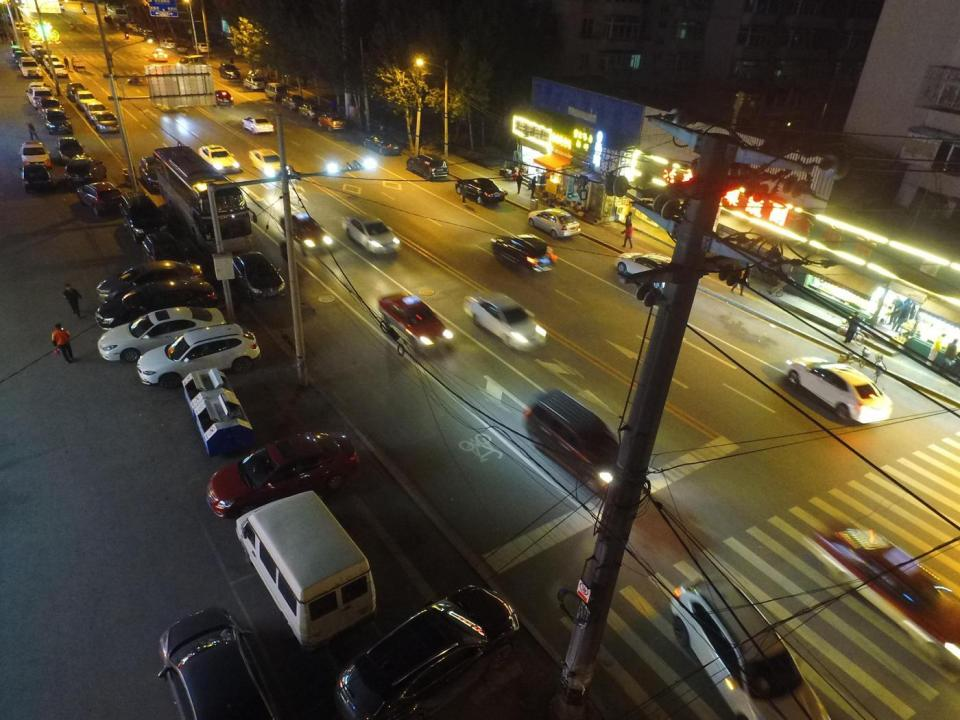bus: (153, 145, 257, 252)
car: (334, 585, 520, 720), (825, 526, 960, 668), (206, 432, 361, 520), (159, 607, 274, 720), (786, 354, 894, 424), (97, 307, 227, 364), (96, 278, 217, 330), (463, 289, 546, 353), (96, 259, 203, 304), (379, 292, 454, 355), (229, 252, 286, 302), (342, 215, 401, 255), (142, 232, 189, 272), (528, 207, 582, 239), (454, 178, 504, 204), (140, 156, 173, 194), (250, 146, 286, 180), (18, 162, 54, 192), (836, 310, 866, 345), (56, 137, 88, 169), (362, 133, 402, 156), (19, 141, 51, 168), (44, 108, 73, 135), (241, 115, 274, 135), (95, 111, 121, 134), (39, 97, 66, 119), (318, 111, 346, 131), (298, 102, 326, 122), (84, 101, 108, 123), (75, 90, 97, 110), (66, 82, 86, 102), (281, 94, 304, 110), (215, 89, 233, 105), (193, 42, 212, 53), (152, 49, 168, 62), (10, 45, 24, 58), (14, 51, 29, 63), (160, 38, 177, 48), (30, 43, 43, 56), (142, 30, 154, 39)
van: (236, 490, 376, 654), (672, 575, 830, 720), (522, 388, 640, 500), (136, 322, 260, 390), (492, 233, 558, 275), (119, 192, 169, 243), (614, 253, 673, 289), (77, 181, 123, 217), (406, 154, 448, 180), (66, 158, 106, 185), (26, 86, 54, 109), (18, 57, 42, 77), (265, 82, 287, 102), (243, 75, 265, 92), (48, 61, 69, 78), (219, 62, 240, 79), (178, 55, 206, 67), (42, 54, 60, 70), (34, 48, 51, 64), (110, 7, 129, 20), (15, 22, 30, 36)
